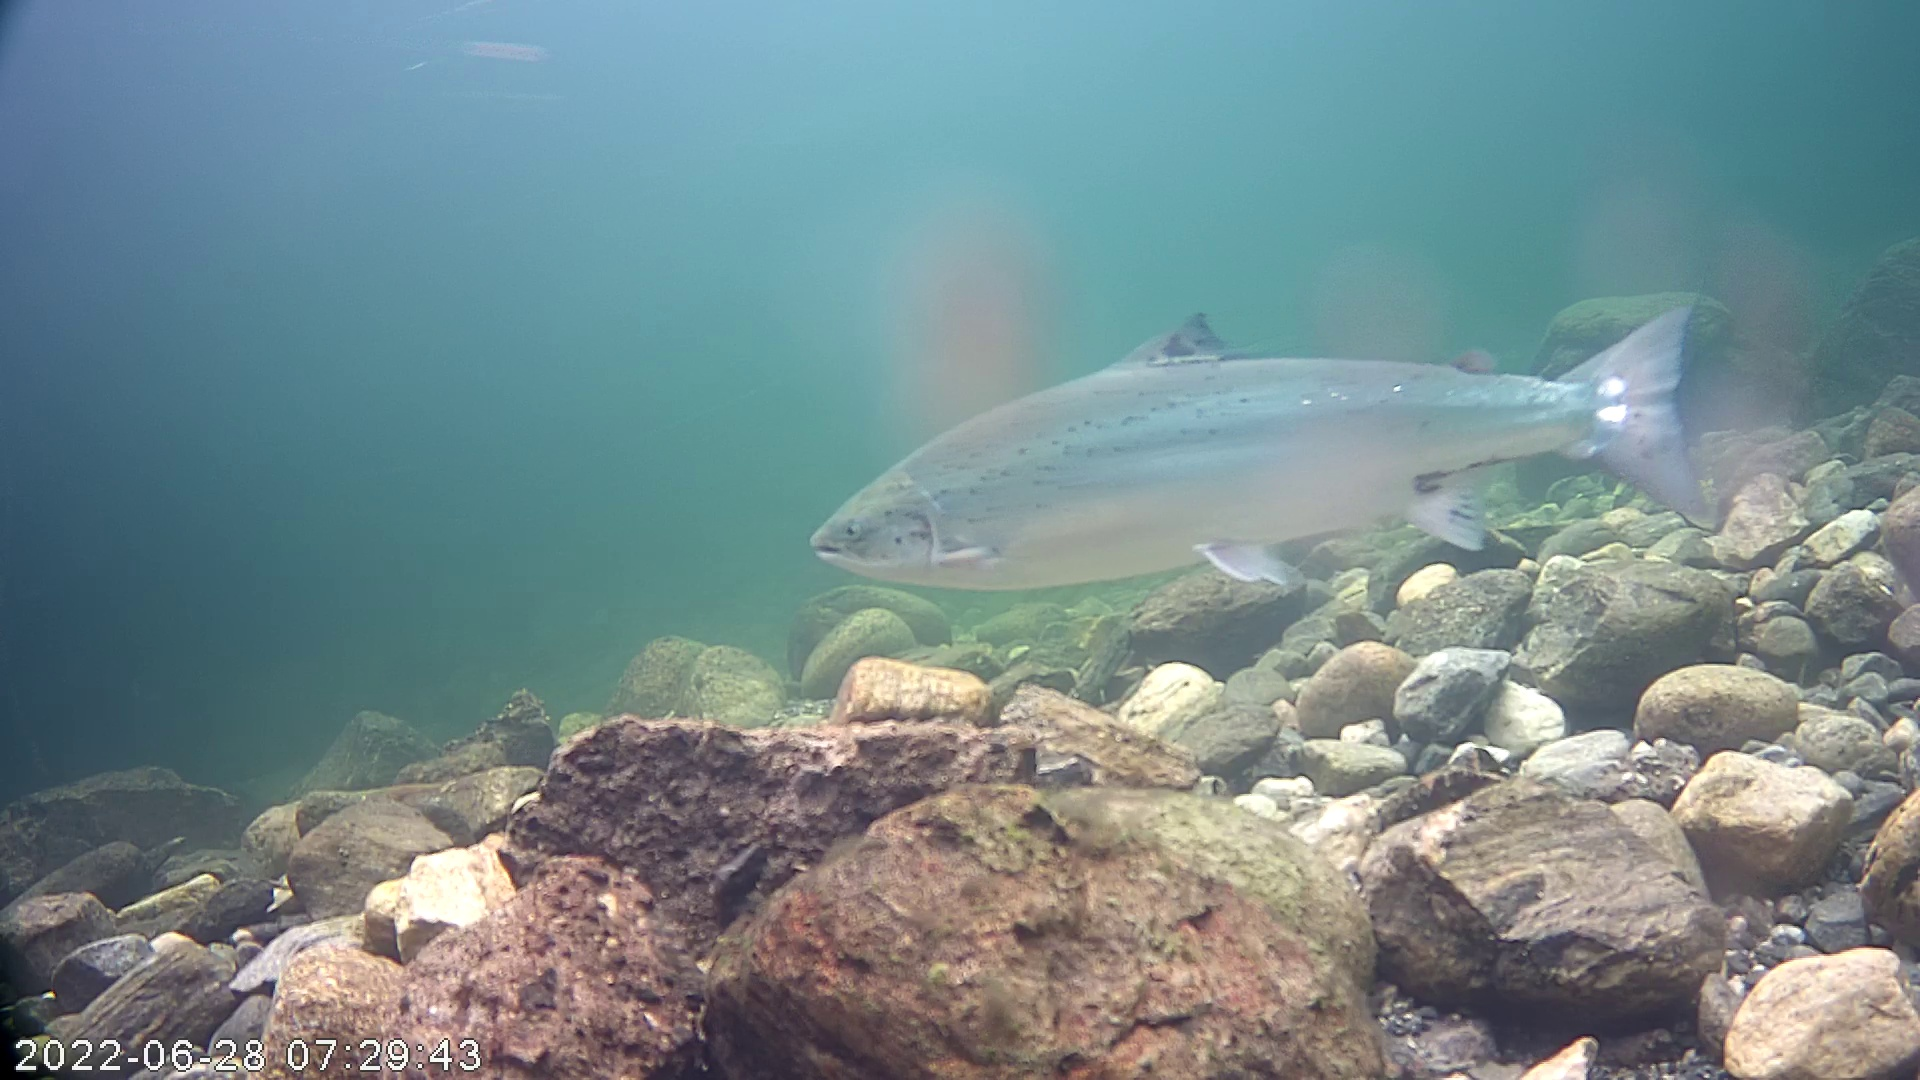salmon: (795, 216, 1724, 626)
